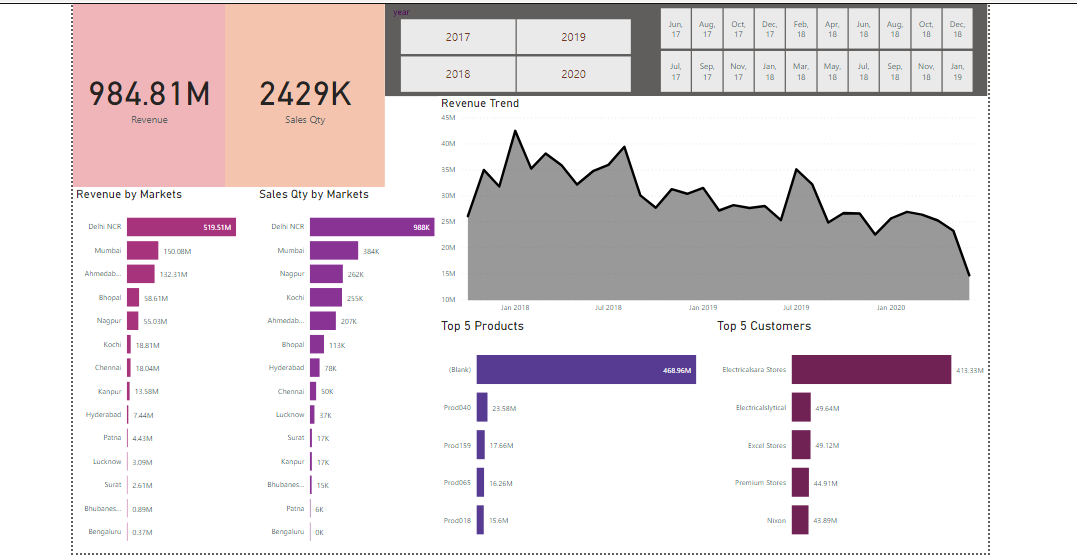

This screenshot's page, from the dashboard's own definition file:
{"tool":"powerbi","page":{"name":"Page 1","canvas":[1500,900],"ordinal":0},"visuals":[{"type":"card","fields":{"Values":["Base Measures.Revenue"]},"box":[0,0,249.9,299.6],"z":0},{"type":"card","fields":{"Values":["Base Measures.Sales Qty"]},"box":[249.9,0,261.5,299.6],"z":1000},{"type":"barChart","title":"Revenue by Markets","fields":{"Y":["Base Measures.Revenue"],"Category":["sales markets.markets_name"]},"box":[0,299.6,299.6,600.8],"z":2000},{"type":"barChart","title":"Sales Qty by Markets","fields":{"Y":["Base Measures.Sales Qty"],"Category":["sales markets.markets_name"]},"box":[299.6,299.6,299.6,600.8],"z":3000},{"type":"slicer","fields":{"Values":["sales date.year"]},"box":[511.4,0,427,150.6],"z":4000},{"type":"slicer","fields":{"Values":["sales date.cy_date"]},"box":[938.5,0,561.1,150.6],"z":5000},{"type":"barChart","title":"Top 5 Customers","fields":{"Y":["Base Measures.Revenue"],"Category":["sales customers.custmer_name"]},"box":[1051,514.8,448.6,385.7],"z":6000},{"type":"barChart","title":"Top 5 Products","fields":{"Y":["Base Measures.Revenue"],"Category":["sales products.product_code"]},"box":[599.2,514.8,451.9,385.7],"z":7000},{"type":"lineChart","title":"Revenue Trend","fields":{"Y":["Base Measures.Revenue"],"Category":["sales date.cy_date"]},"box":[599.2,150.6,900.4,364.1],"z":8000}]}

Visuals, with their boxes in screenshot pixels (x1, y1, x2, y2):
card - Base Measures.Revenue: 0, 0, 96, 182
card - Base Measures.Sales Qty: 96, 0, 255, 182
"Revenue by Markets" barChart: 0, 182, 126, 548
"Sales Qty by Markets" barChart: 126, 182, 309, 548
slicer - sales date.year: 255, 0, 515, 92
slicer - sales date.cy_date: 515, 0, 856, 92
"Top 5 Customers" barChart: 583, 313, 856, 548
"Top 5 Products" barChart: 309, 313, 584, 548
"Revenue Trend" lineChart: 309, 92, 856, 313
